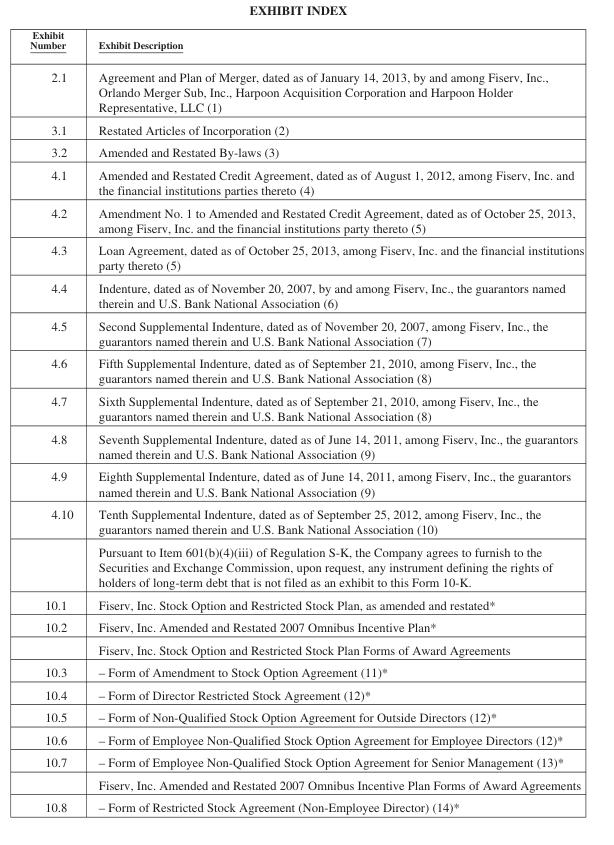table: (29, 28, 583, 814)
table column: (85, 28, 583, 814), (29, 28, 85, 814)
table column header: (29, 28, 583, 60)
table row: (29, 60, 583, 118), (29, 540, 583, 593), (29, 200, 583, 238), (29, 238, 583, 276), (29, 276, 583, 314), (29, 351, 583, 389), (29, 389, 583, 427), (29, 464, 583, 502), (29, 502, 583, 540), (29, 163, 583, 200), (29, 314, 583, 351), (29, 427, 583, 464), (29, 28, 583, 60), (29, 140, 583, 163), (29, 615, 583, 638), (29, 660, 583, 683), (29, 705, 583, 728), (29, 750, 583, 773), (29, 118, 583, 140), (29, 593, 583, 615), (29, 638, 583, 660), (29, 683, 583, 705), (29, 728, 583, 750), (29, 773, 583, 795), (29, 795, 583, 814)
table spanning cell: (29, 502, 85, 593), (29, 615, 85, 660), (29, 750, 85, 795)
